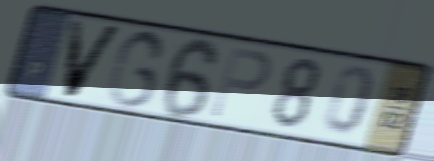0: (322, 62, 378, 141)
6: (158, 33, 225, 121)
8: (269, 55, 322, 131)
G: (104, 27, 170, 112)
P: (206, 43, 274, 121)
V: (61, 16, 128, 101)
